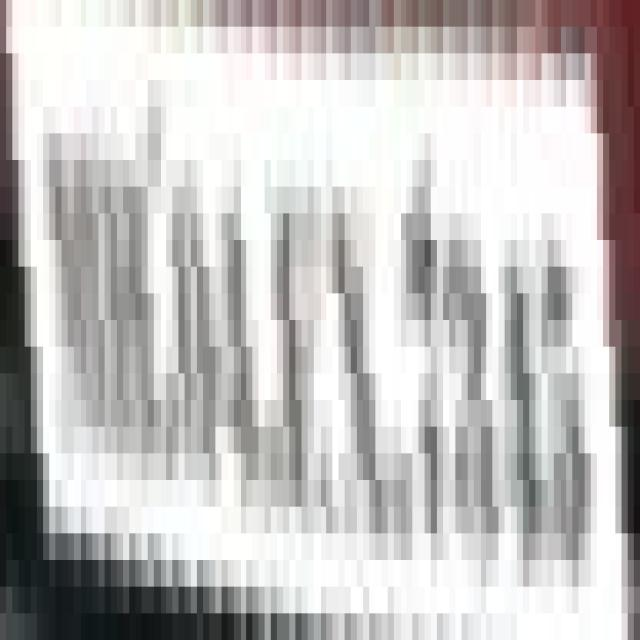license_plate: (31, 27, 634, 613)
